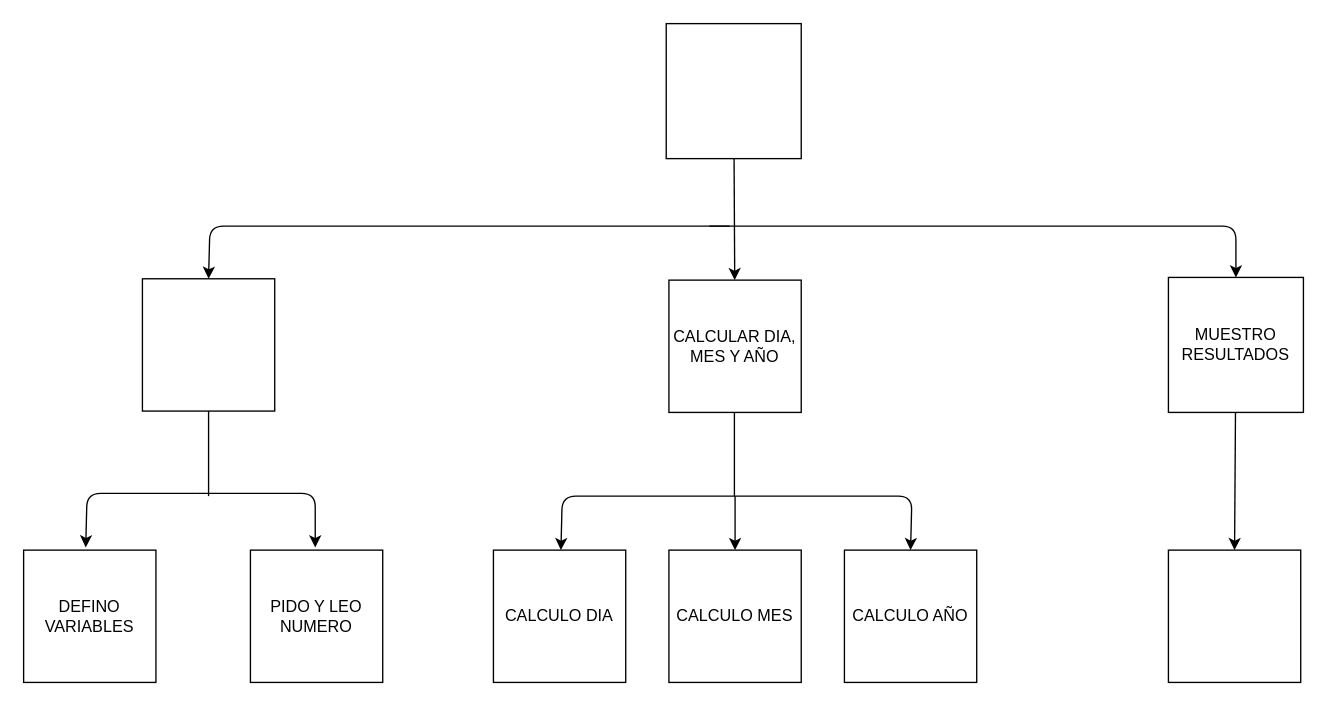
Image size: 1327x706. Some labels were removed from this diagram. The box of each missing label's shape, as (x1, y1, x2, y2) in pixels:
MOSTRAR DIA, MES Y AÑO QUE REPRESENTA: (665, 22, 801, 159)
MUESTRO DIA, MES Y AÑO: (1167, 549, 1301, 682)
PEDIR EL NUMERO: (141, 277, 275, 411)
